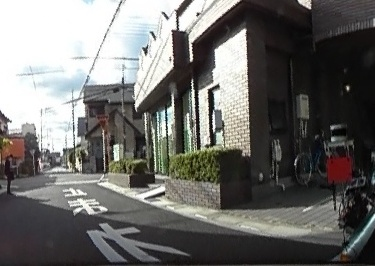person: (1, 153, 14, 194)
